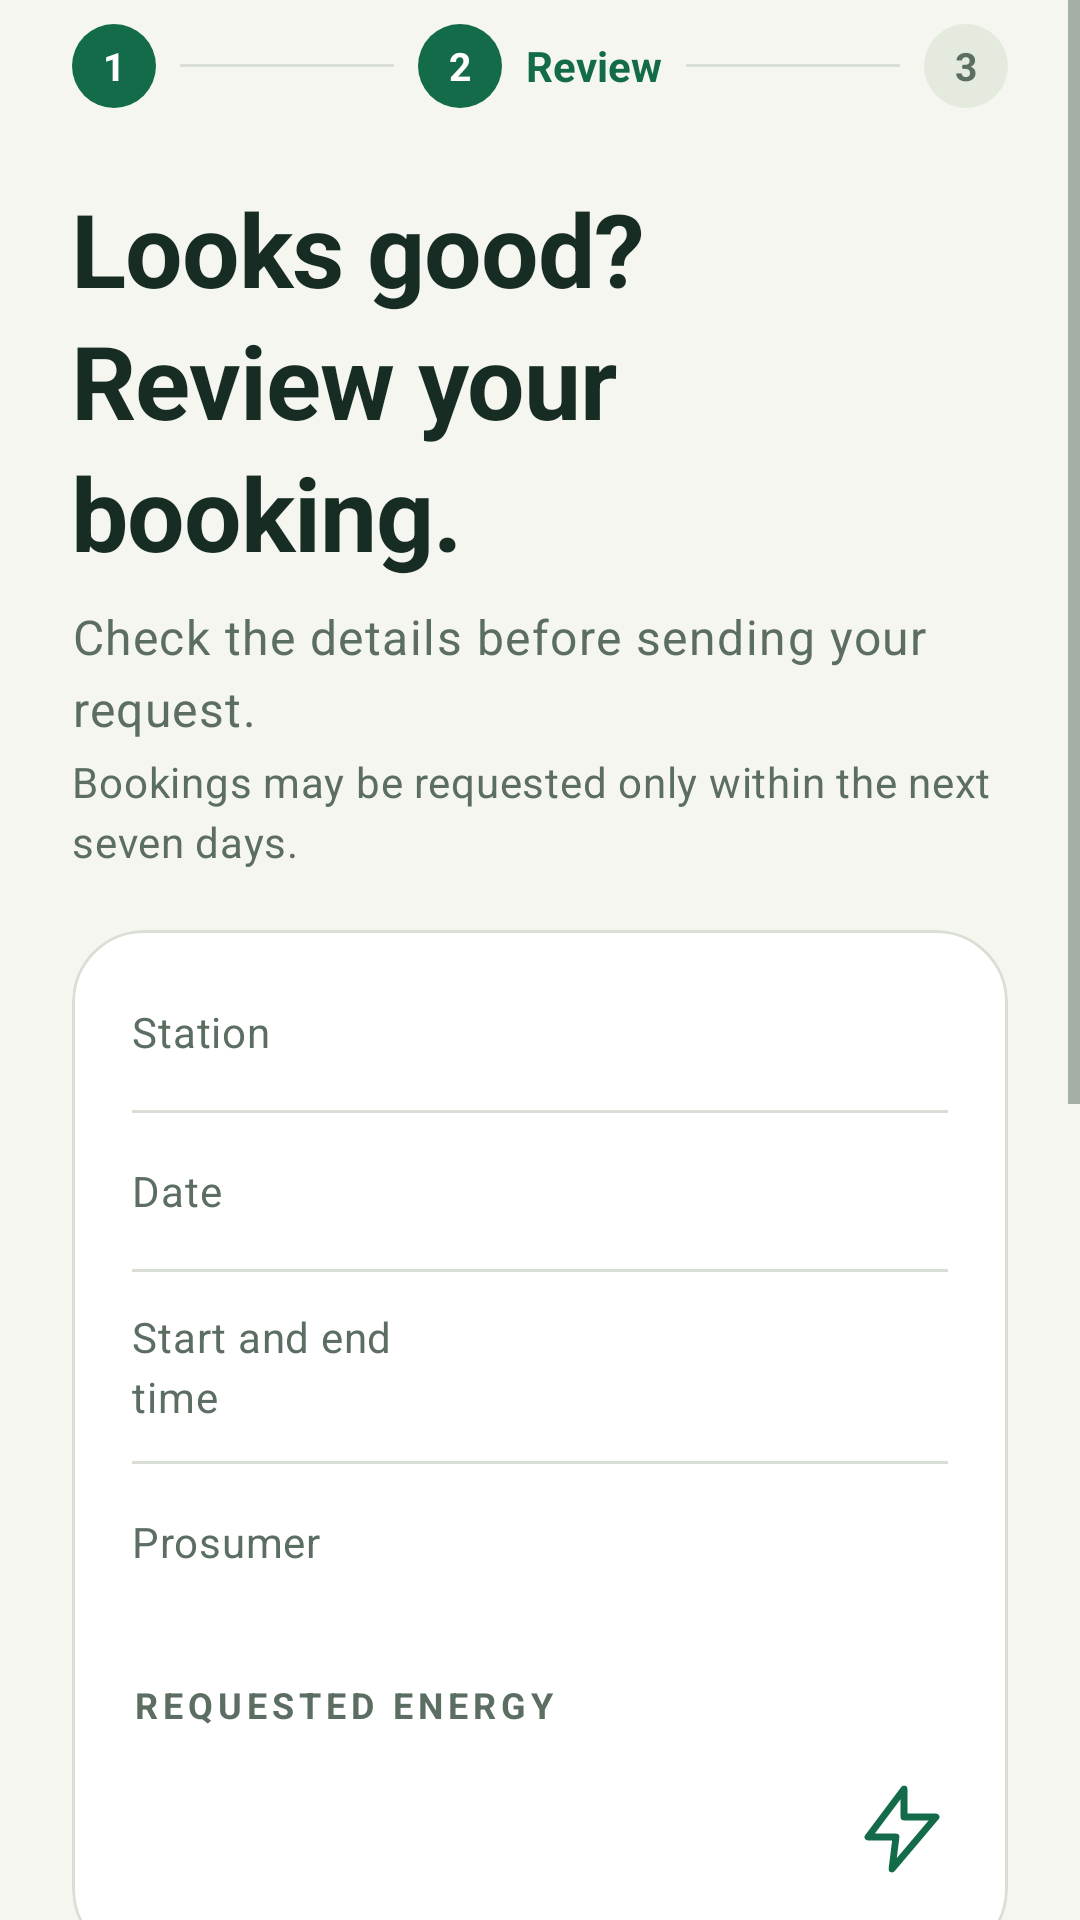

Where icons sit on this 1080×1920 app screen, as [x1, y1, x2, y2]:
bolt: [864, 1785, 940, 1873]
